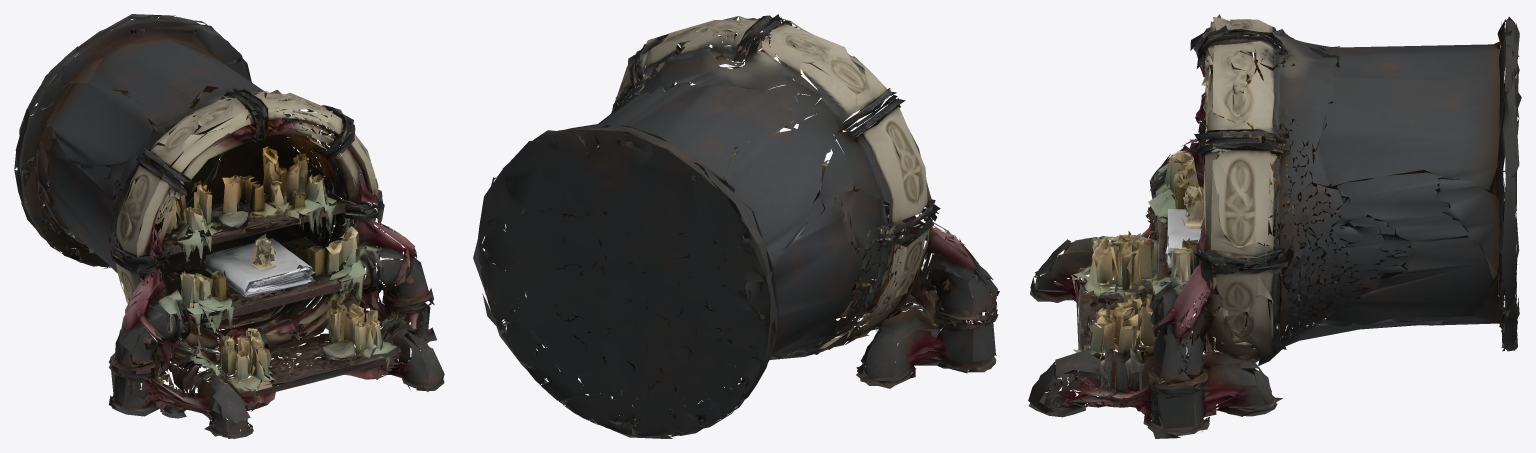
Rendered from quest_cultist_shrine.glb.
The picture shows the model from 3 angles, left to right: view 1: azimuth 30°, elevation 25°; view 2: azimuth 150°, elevation 25°; view 3: azimuth 270°, elevation 25°; orthographic projection. The views are drawn at different scales.
Visible parts, largest first — view 1: node_0; view 2: node_0; view 3: node_0.
Boxes of the visible parts, x1=… form: node_0: x1=14, y1=14, x2=444, y2=438; node_0: x1=473, y1=14, x2=999, y2=438; node_0: x1=1028, y1=14, x2=1521, y2=438.
Size of the model in its own units: 0.8224 by 0.6586 by 0.8923.
1 material, 1 textured.
